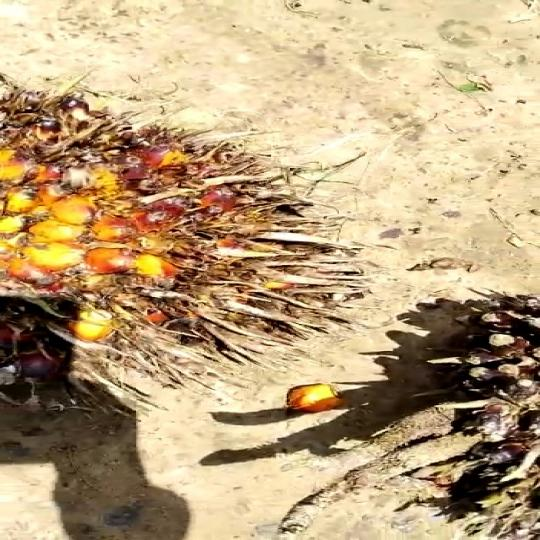terlalu masak: (0, 72, 382, 412)
